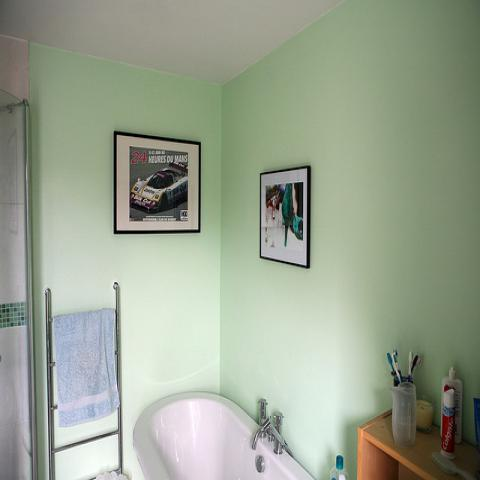car: (130, 161, 190, 214)
